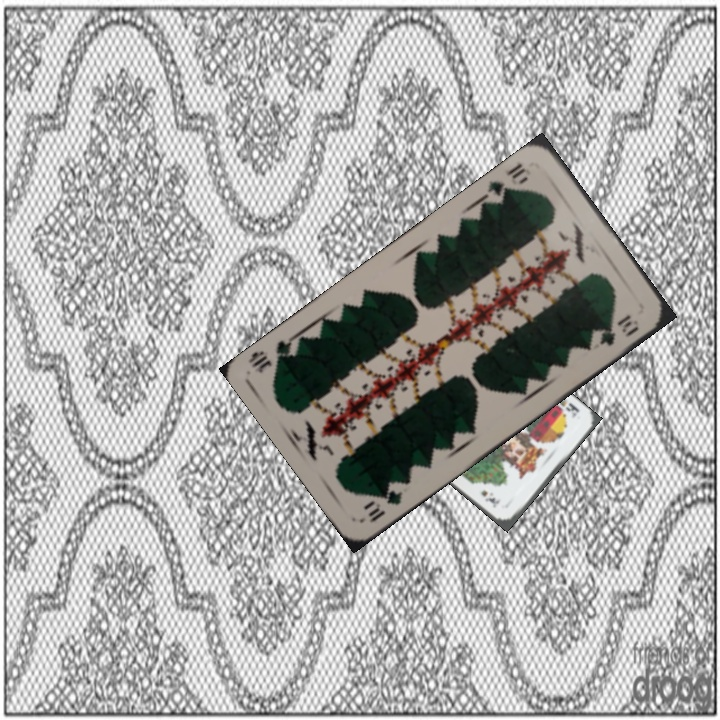G10: (482, 159, 531, 207), (359, 484, 405, 526)
SK: (555, 393, 582, 420)
